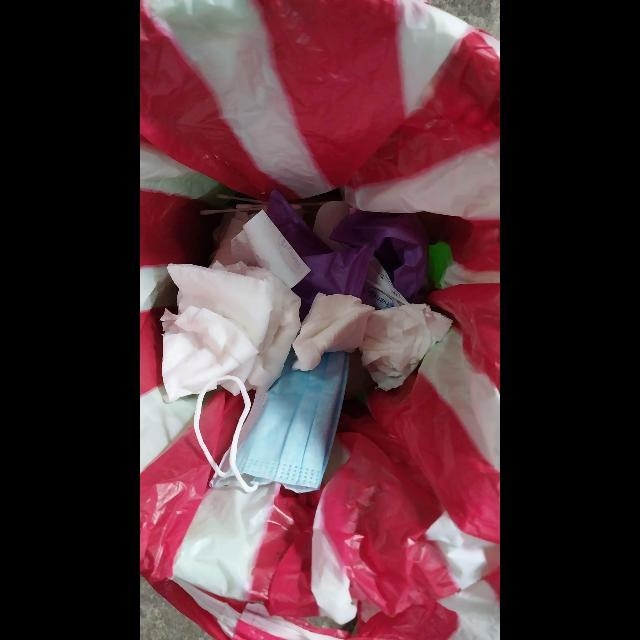paper: (160, 261, 301, 403), (359, 303, 453, 391), (292, 292, 376, 372), (231, 210, 311, 289)
